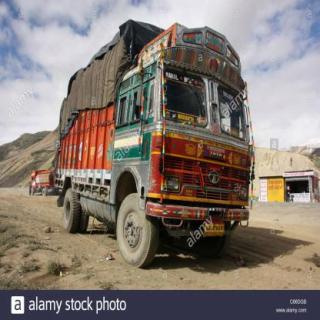Normal_vehicle: (49, 14, 260, 271)
